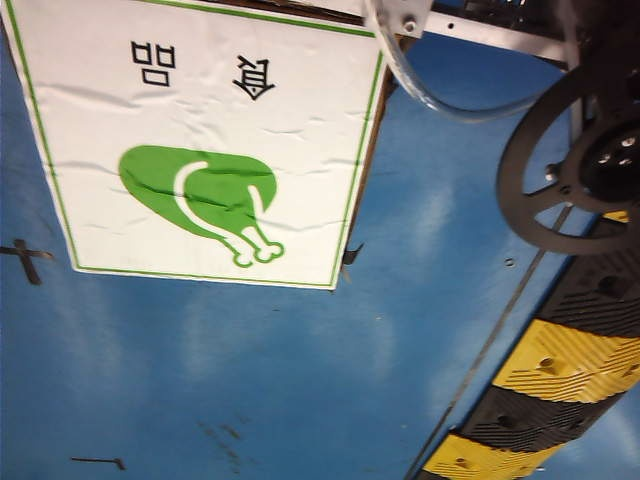Cube_food: (85, 19, 356, 267)
